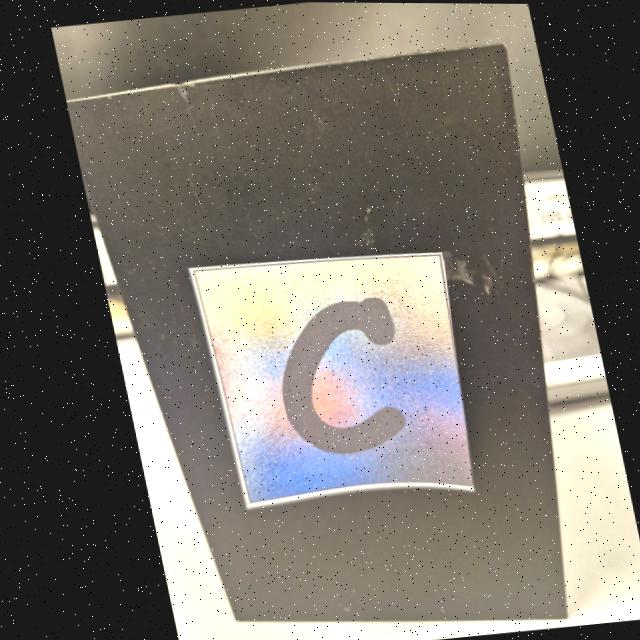C: (274, 297, 395, 454)
